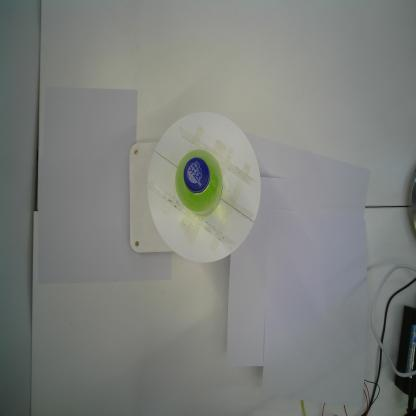Drink: (174, 148, 224, 219)
